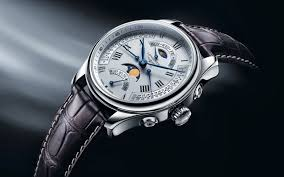clock: (89, 20, 199, 107)
